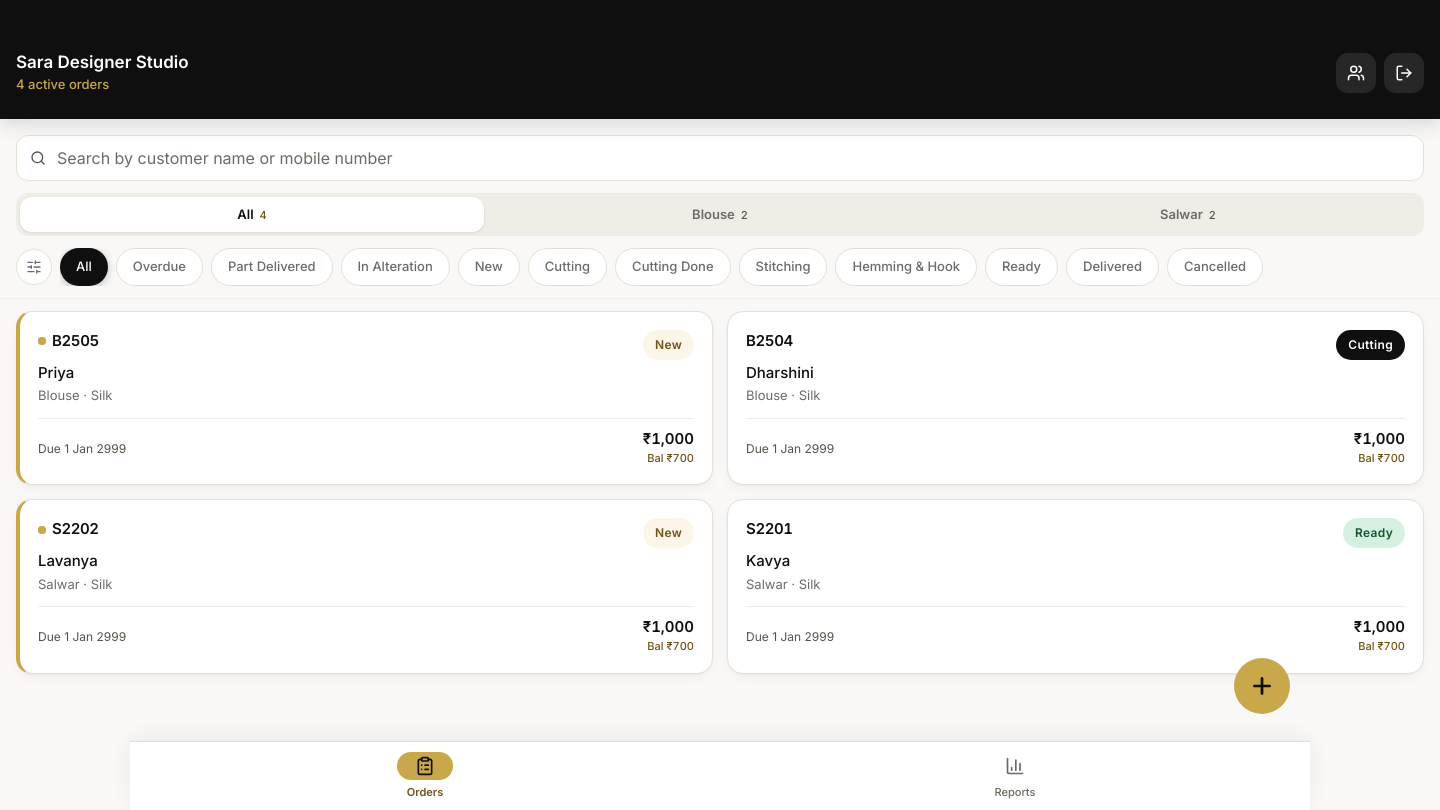
it: OrdersBody › Blouse / Salwar tabs › recounts the tabs against the active status filter and search
This screenshot has width=1440, height=810.
Step 1. Click the button "New" → (489, 267), box 458,248 -> 520,286
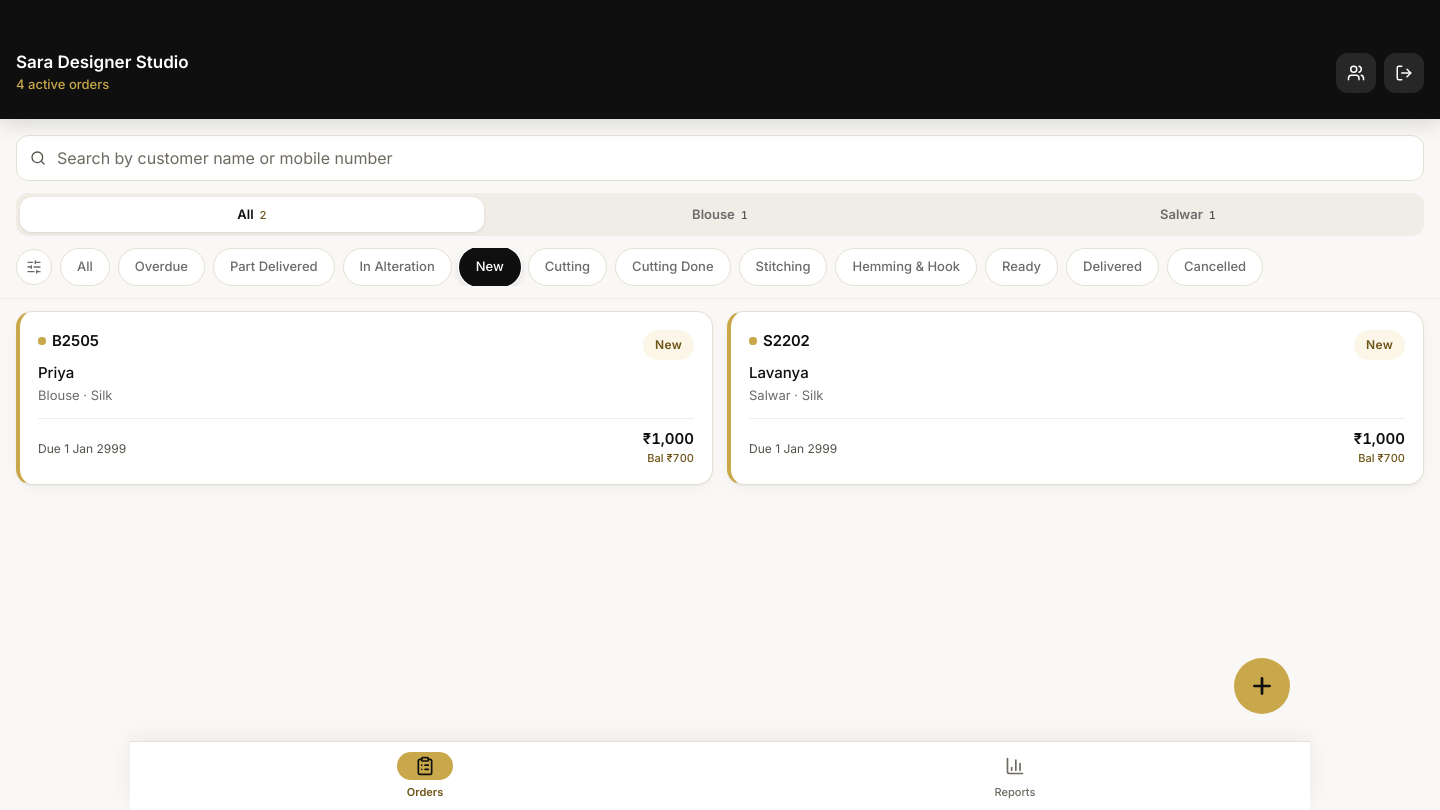
Result: the tab "All2" is shown at 20,197 -> 484,232
Result: the tab "Blouse1" is shown at 488,197 -> 952,232
Result: the tab "Salwar1" is shown at 956,197 -> 1420,232
Step 2. Type "Lavanya" into the field named "Search orders" → (720, 158), box 16,135 -> 1424,181
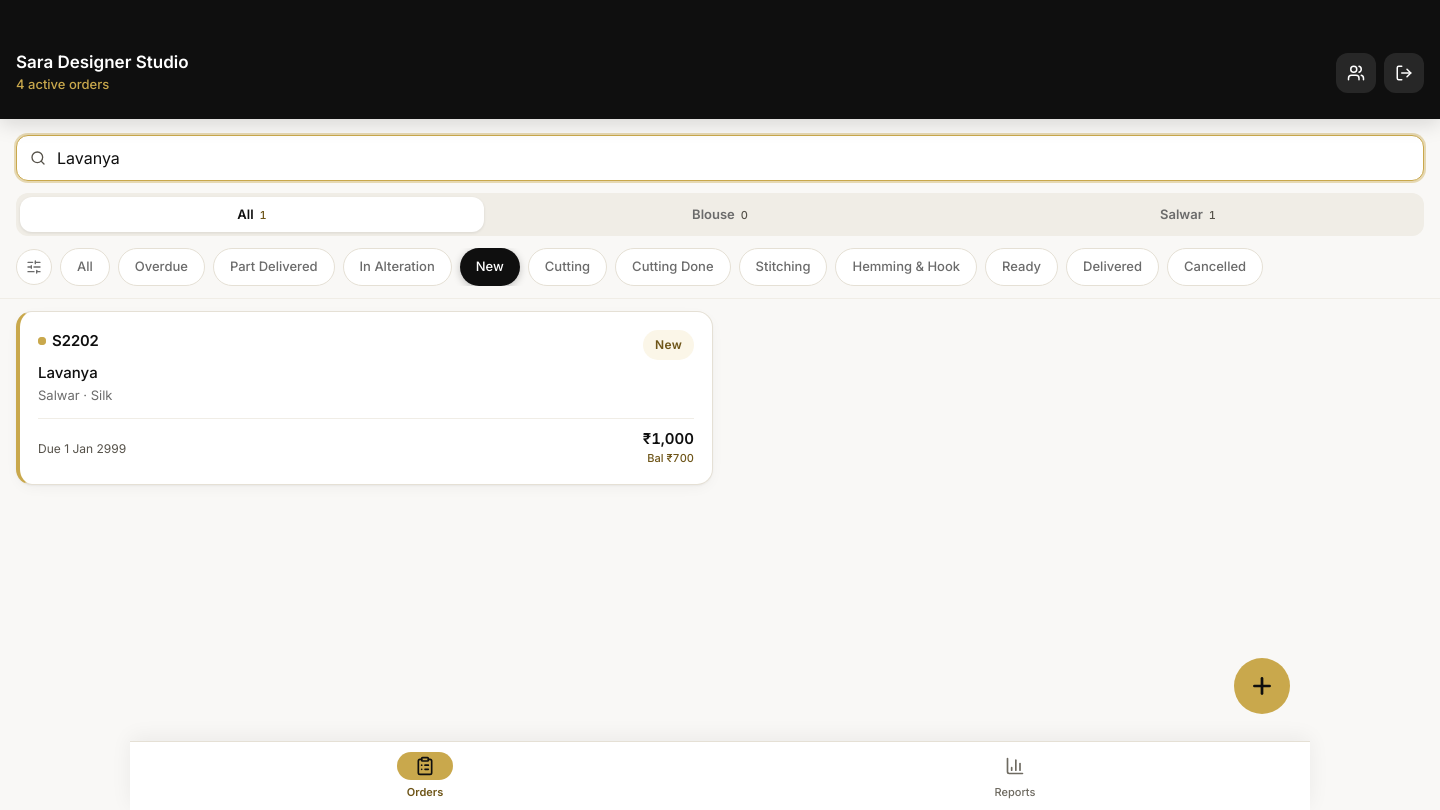
Result: the tab "Salwar1" is shown at 956,197 -> 1420,232
Result: the tab "Blouse0" is shown at 488,197 -> 952,232
